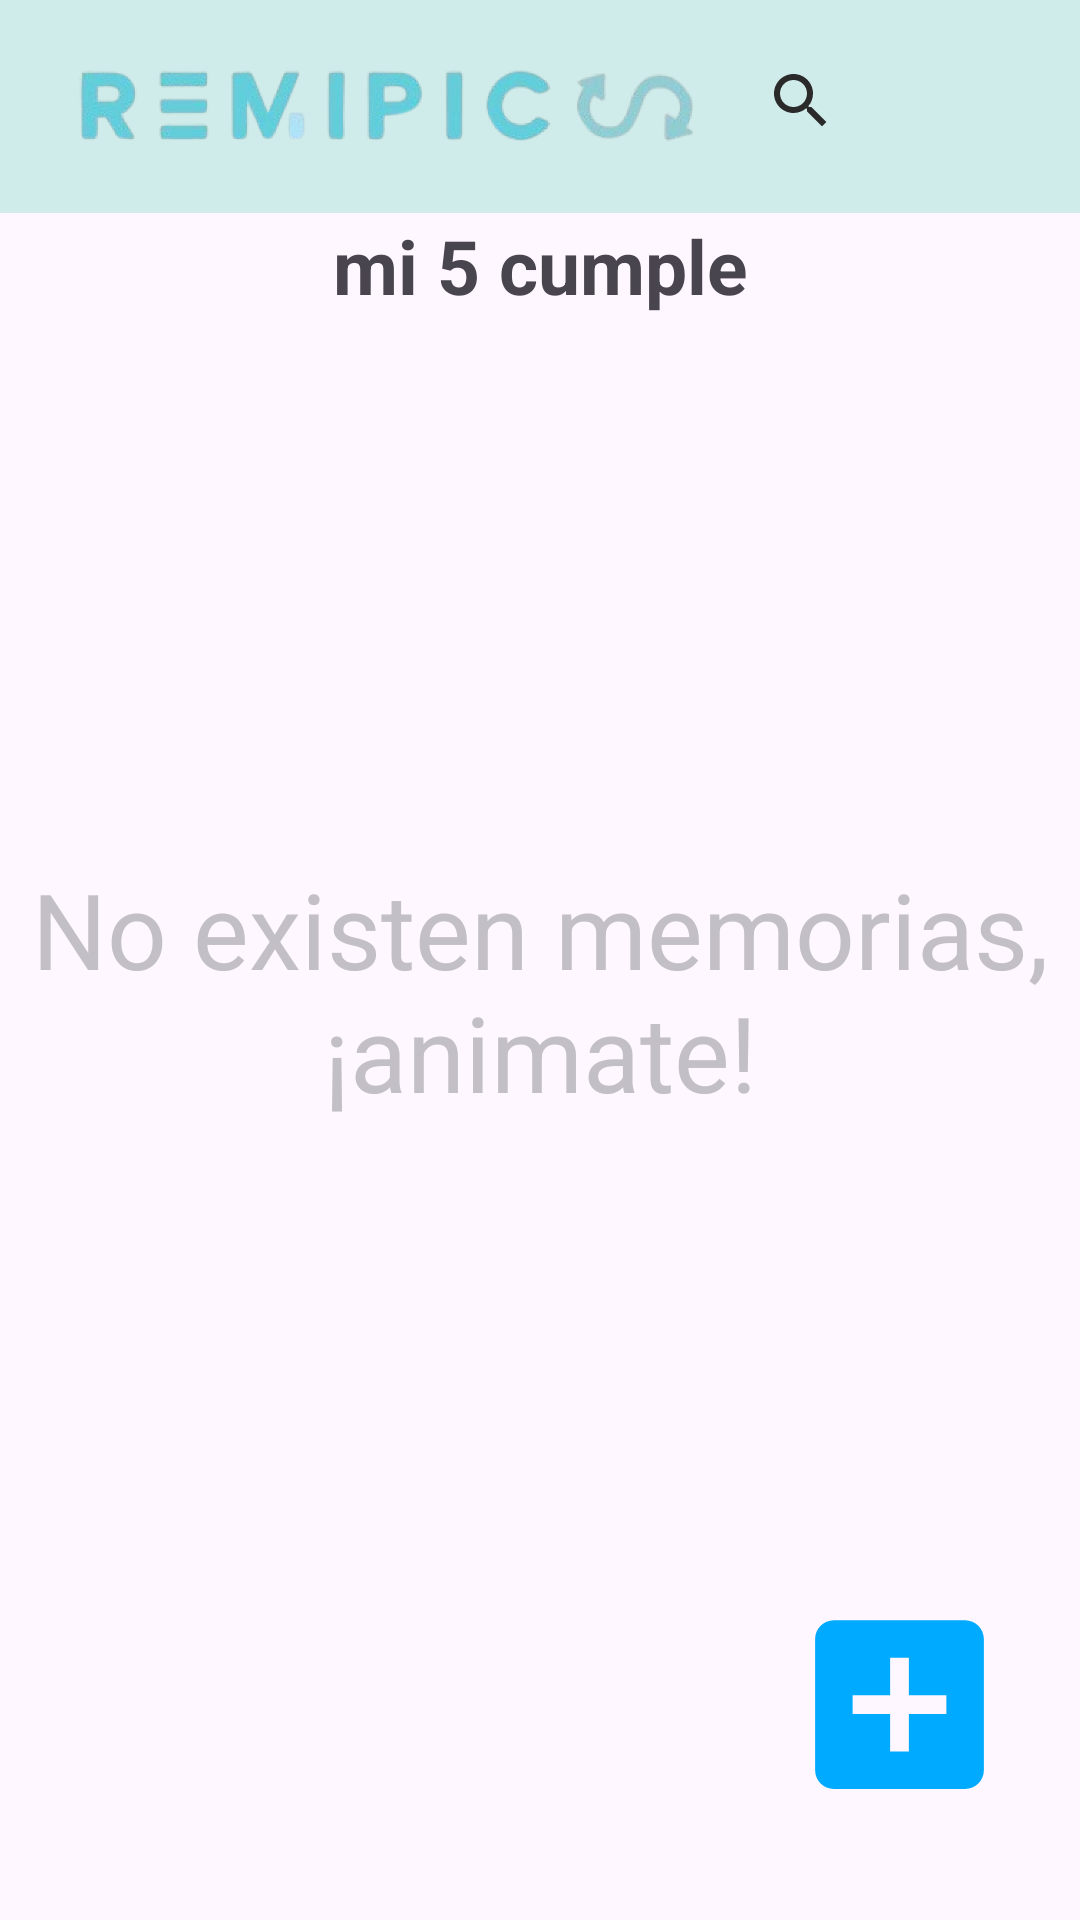

Screen size 1080×1920. Icon name, then its center in pixels as (x,y):
crear album: (899,1704)
lupa: (800,100)
